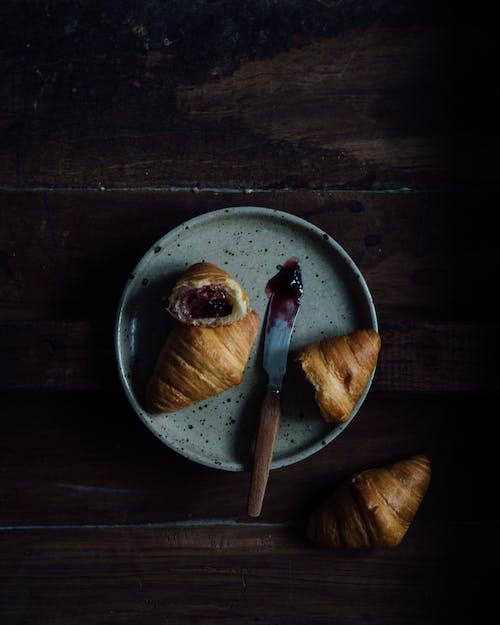knife: (243, 259, 304, 520)
